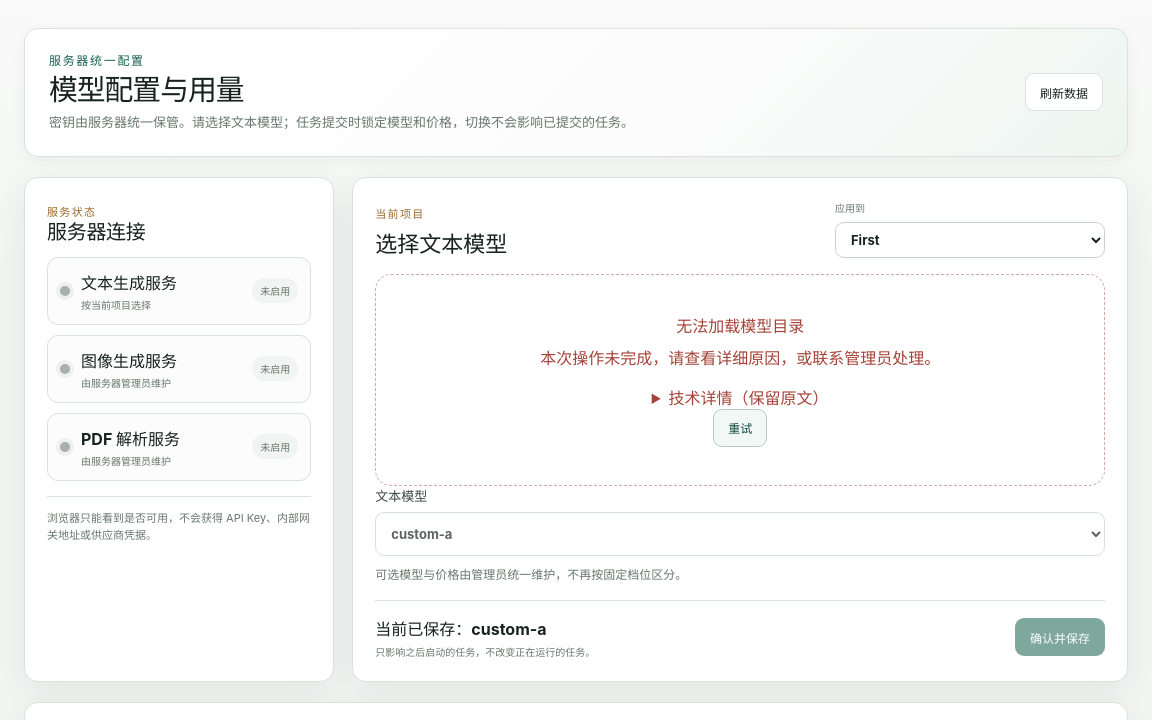
Test case: shows catalog errors and blocks saving instead of silently showing old choices
Expected: the text "无法加载模型目录" is shown, [676,316,804,336]
Expected: the dropdown labelled "文本模型" is disabled, [375,512,1105,556]
Click the button "重试" at [740, 428], box [713,408,767,446]
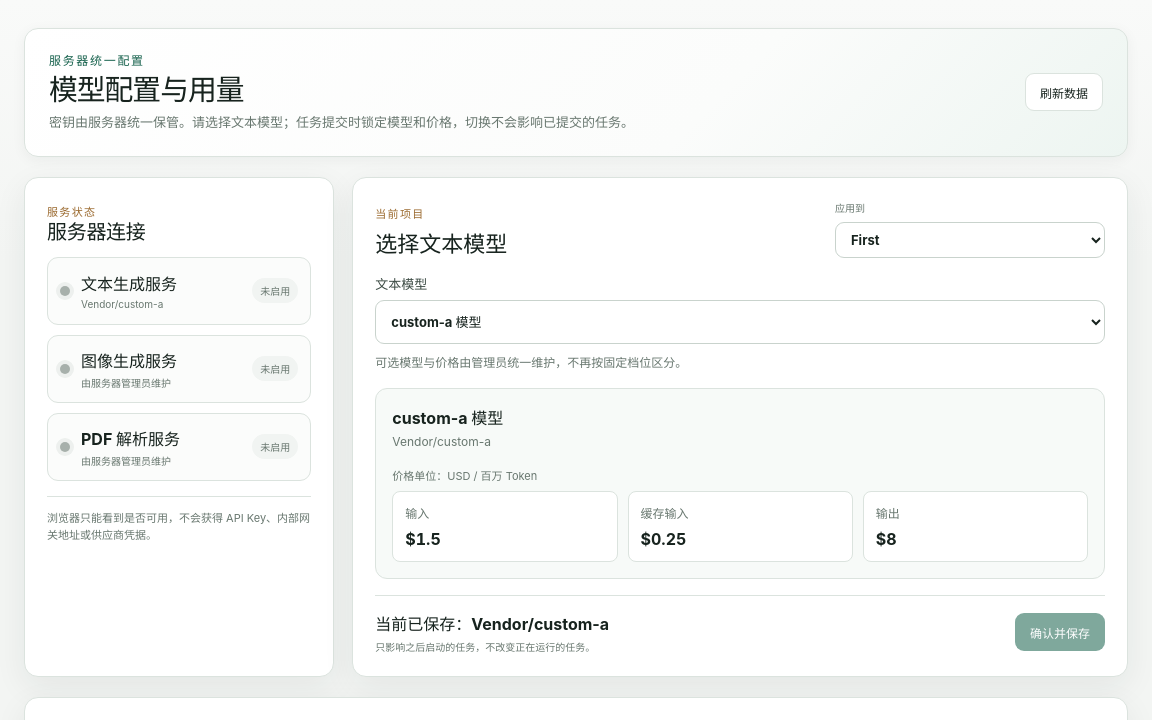
Result: the dropdown labelled "文本模型" is enabled at [375,300,1105,344]
